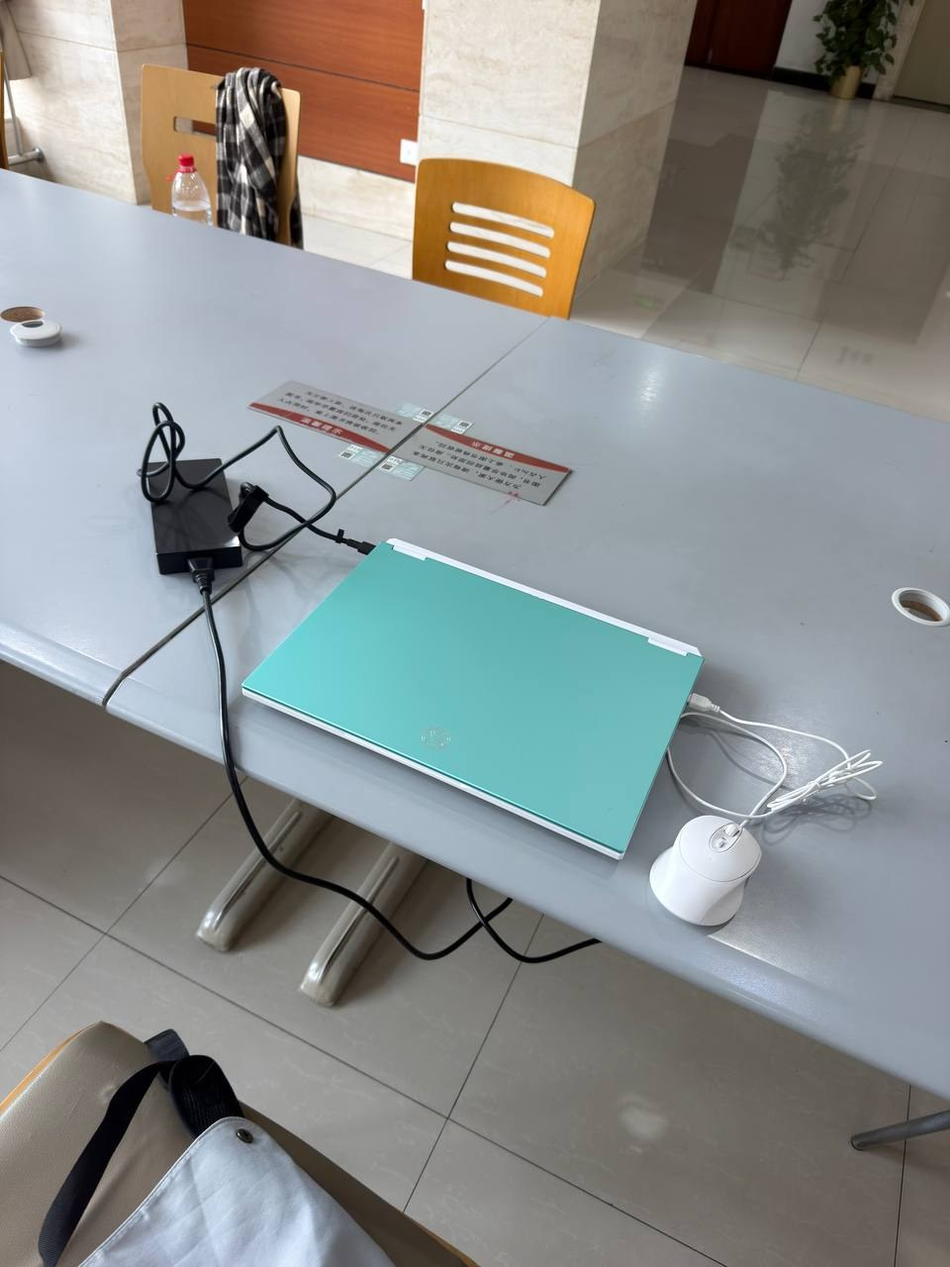laptop: (240, 536, 705, 861)
